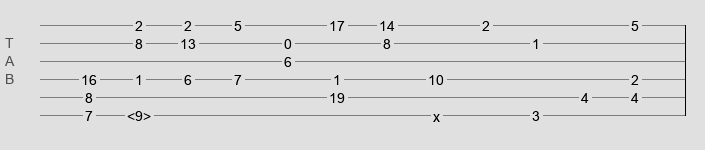0: (284, 36, 292, 46)
1: (135, 72, 143, 82), (333, 72, 341, 82), (532, 36, 540, 46)
10: (428, 72, 444, 82)
13: (180, 36, 196, 46)
14: (379, 18, 395, 28)
16: (81, 72, 97, 82)
17: (329, 18, 345, 28)
19: (329, 90, 345, 100)
2: (135, 18, 143, 28), (184, 18, 192, 28), (482, 18, 490, 28), (631, 72, 639, 82)
3: (532, 108, 540, 118)
4: (581, 90, 589, 100), (631, 90, 639, 100)
5: (234, 18, 242, 28), (631, 18, 639, 28)
6: (184, 72, 192, 82), (284, 54, 292, 64)
7: (85, 108, 93, 118), (234, 72, 242, 82)
8: (85, 90, 93, 100), (135, 36, 143, 46), (383, 36, 391, 46)
harmonic: (127, 108, 151, 118)
x: (433, 109, 440, 117)
